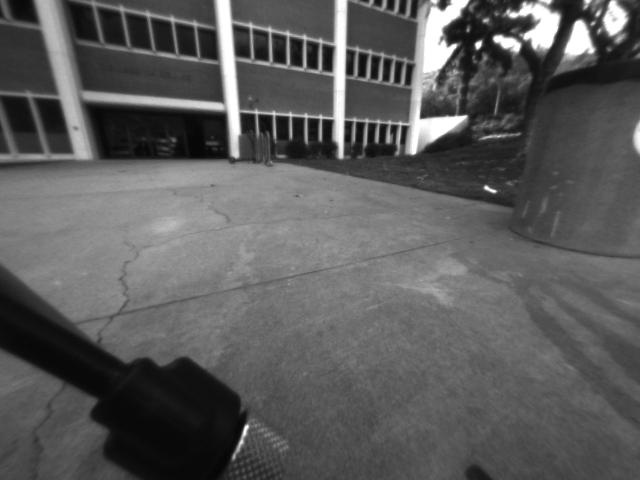trashcan: (513, 51, 640, 268)
